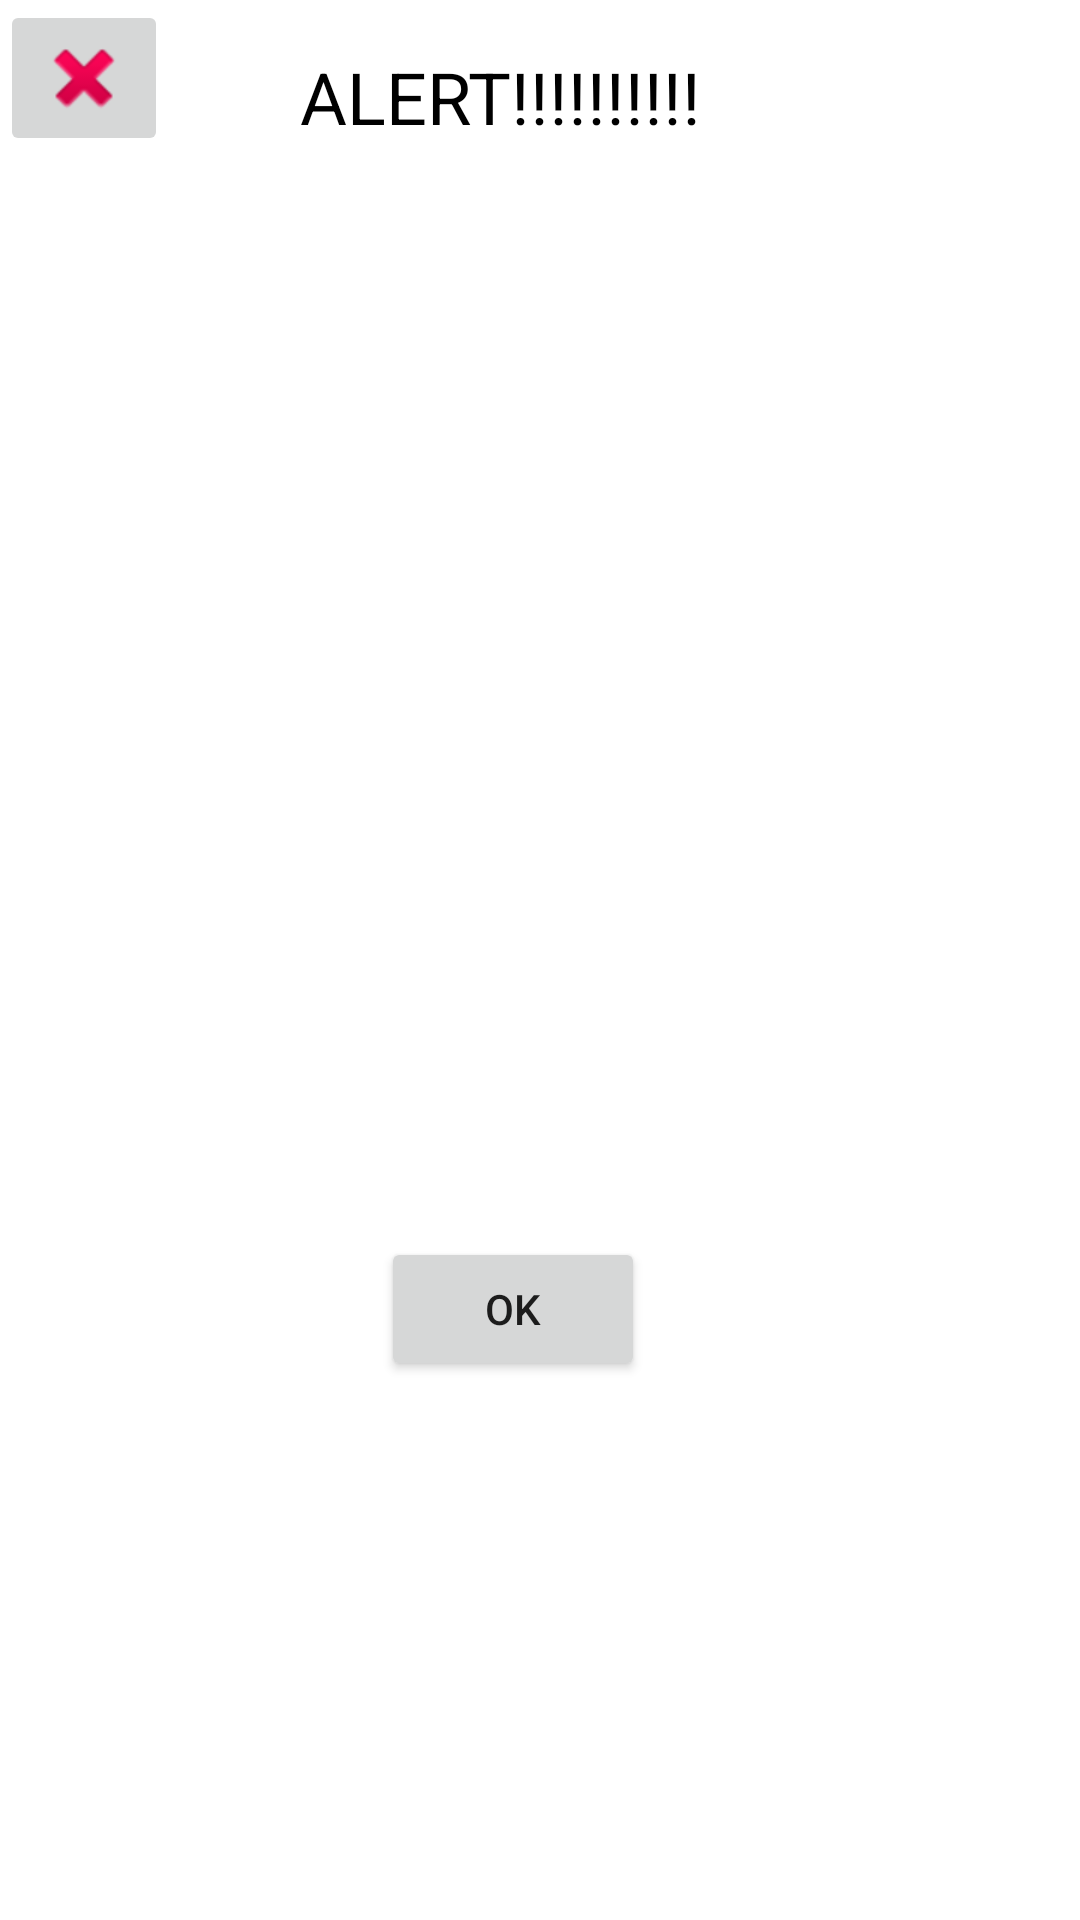

Where to tap for icons on this 1080×1920 app screen, as (x=x, y=y):
delete: (x=84, y=78)
